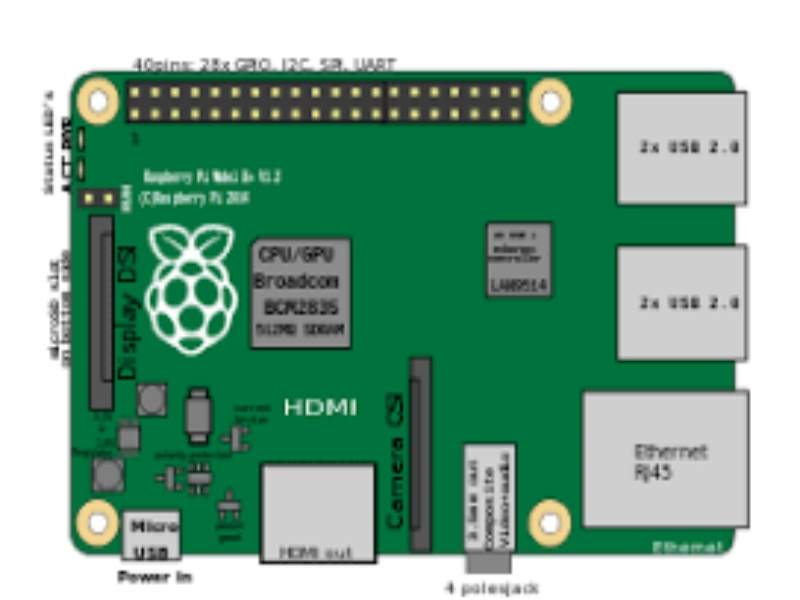raspberrypi: (37, 42, 774, 574)
